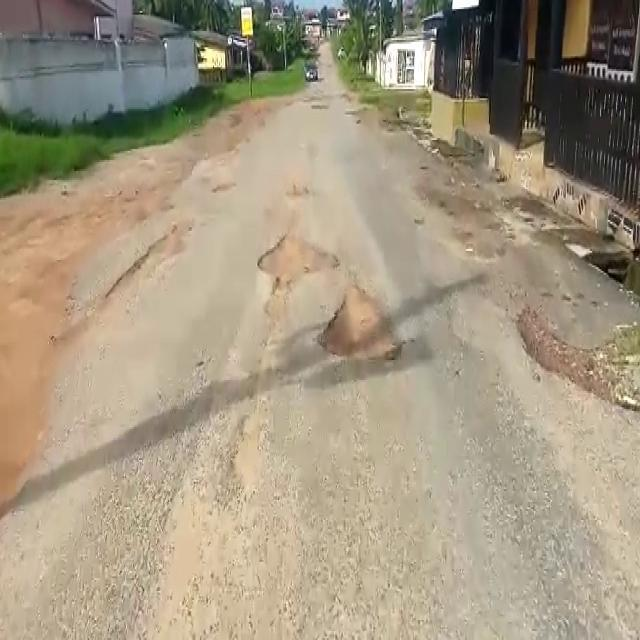pothole: (513, 291, 640, 422), (310, 291, 413, 371), (256, 232, 341, 285)
